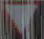Give way: (2, 0, 38, 37)
